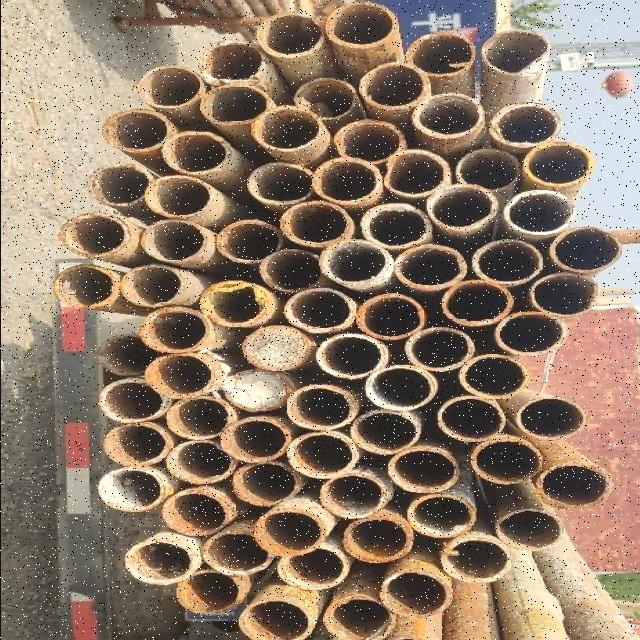pipe: (531, 462, 619, 512), (384, 446, 464, 496), (438, 280, 518, 330), (440, 535, 518, 586), (199, 528, 277, 578), (490, 312, 572, 359), (468, 438, 548, 486), (379, 570, 455, 620), (342, 514, 414, 566), (124, 538, 198, 588), (318, 239, 392, 289), (424, 184, 498, 234), (358, 62, 432, 112), (253, 509, 325, 559), (503, 190, 578, 238), (412, 93, 484, 143), (488, 101, 564, 148), (258, 11, 328, 62), (164, 395, 238, 443), (458, 353, 532, 401), (285, 384, 359, 432), (241, 325, 315, 373), (198, 281, 272, 329), (325, 1, 399, 49), (59, 212, 132, 260), (318, 472, 388, 522), (222, 416, 292, 466), (140, 308, 216, 354), (394, 246, 470, 292), (361, 204, 437, 250), (550, 227, 624, 274), (480, 31, 554, 78), (286, 432, 358, 480), (166, 438, 238, 486), (145, 354, 217, 402), (472, 239, 544, 287), (439, 396, 508, 446), (200, 84, 276, 129), (352, 409, 426, 455), (406, 328, 480, 374), (315, 334, 389, 380), (284, 288, 358, 334), (523, 142, 597, 188), (282, 203, 356, 249), (160, 490, 230, 538), (357, 294, 427, 342), (384, 150, 454, 198), (514, 396, 588, 441), (275, 546, 347, 592), (230, 462, 302, 508), (365, 366, 437, 412), (222, 368, 294, 414), (406, 34, 478, 80), (100, 110, 174, 154), (133, 66, 205, 111), (174, 570, 244, 616), (408, 494, 478, 540), (216, 218, 286, 264), (336, 121, 406, 167), (312, 160, 382, 206), (253, 106, 323, 152), (90, 164, 159, 210), (160, 132, 232, 176), (102, 424, 172, 469), (98, 378, 168, 423), (98, 468, 166, 514), (140, 218, 208, 264), (260, 249, 329, 294), (496, 508, 566, 552), (532, 274, 602, 318), (246, 162, 316, 206), (199, 40, 267, 84), (454, 148, 520, 193), (55, 264, 119, 310), (325, 598, 395, 640), (147, 178, 217, 220), (238, 601, 313, 640), (120, 266, 186, 310), (293, 77, 359, 121), (98, 333, 159, 378)
